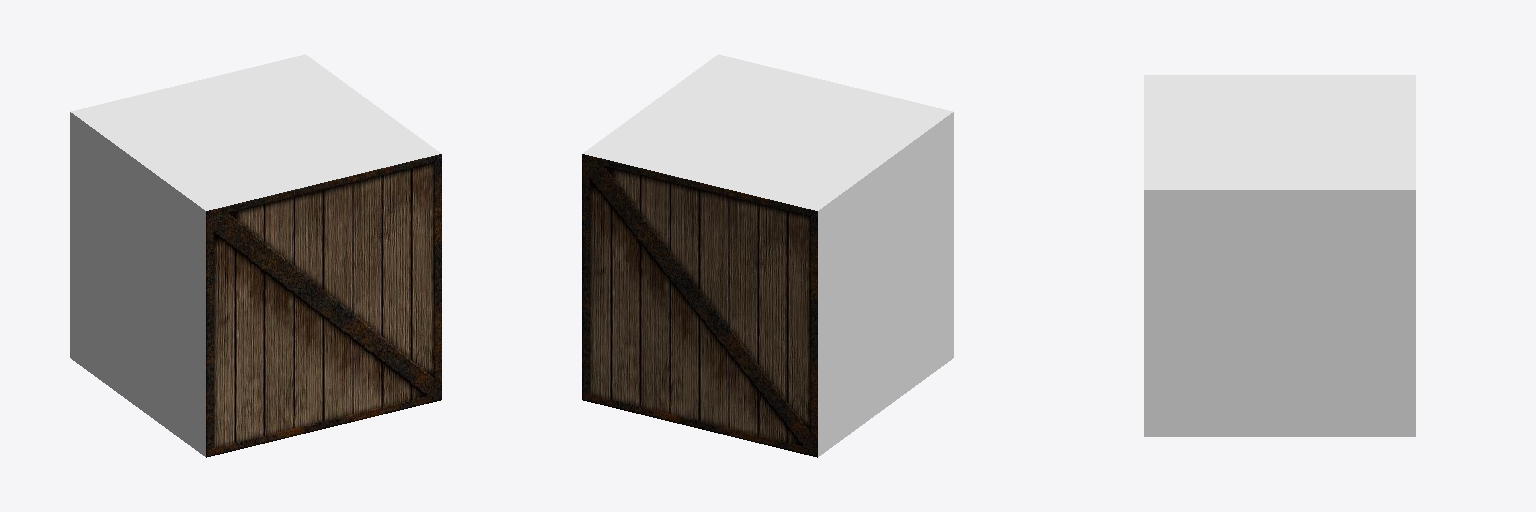
3 renders of one model, left to right at view 1: azimuth 30°, elevation 25°; view 2: azimuth 150°, elevation 25°; view 3: azimuth 270°, elevation 25°, orthographic.
Parts seen in each view (by area): view 1: Mesh1 Model; view 2: Mesh1 Model; view 3: Mesh1 Model.
Boxes of the visible parts, box(x1,y1,x2,y2) form: Mesh1 Model: box(70, 54, 441, 457); Mesh1 Model: box(582, 54, 953, 457); Mesh1 Model: box(1144, 75, 1415, 436).
Bounding box in the file's own units: 1 × 1 × 1.
Materials: 2 (1 with a texture image).